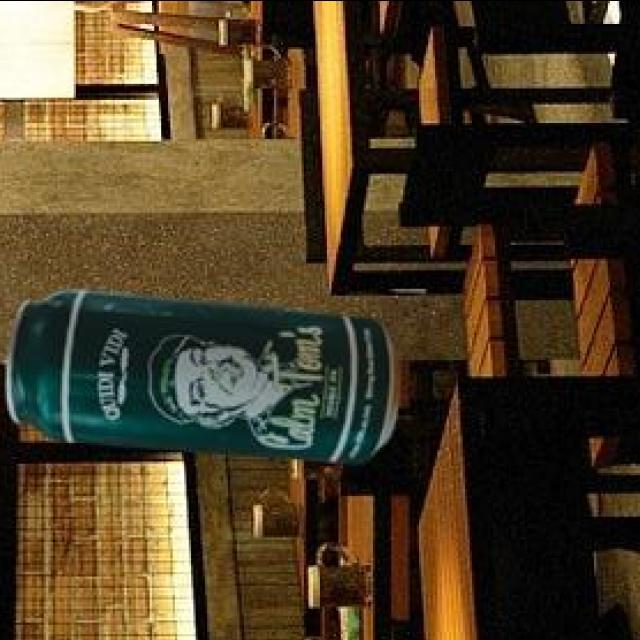logam: (3, 294, 397, 466)
